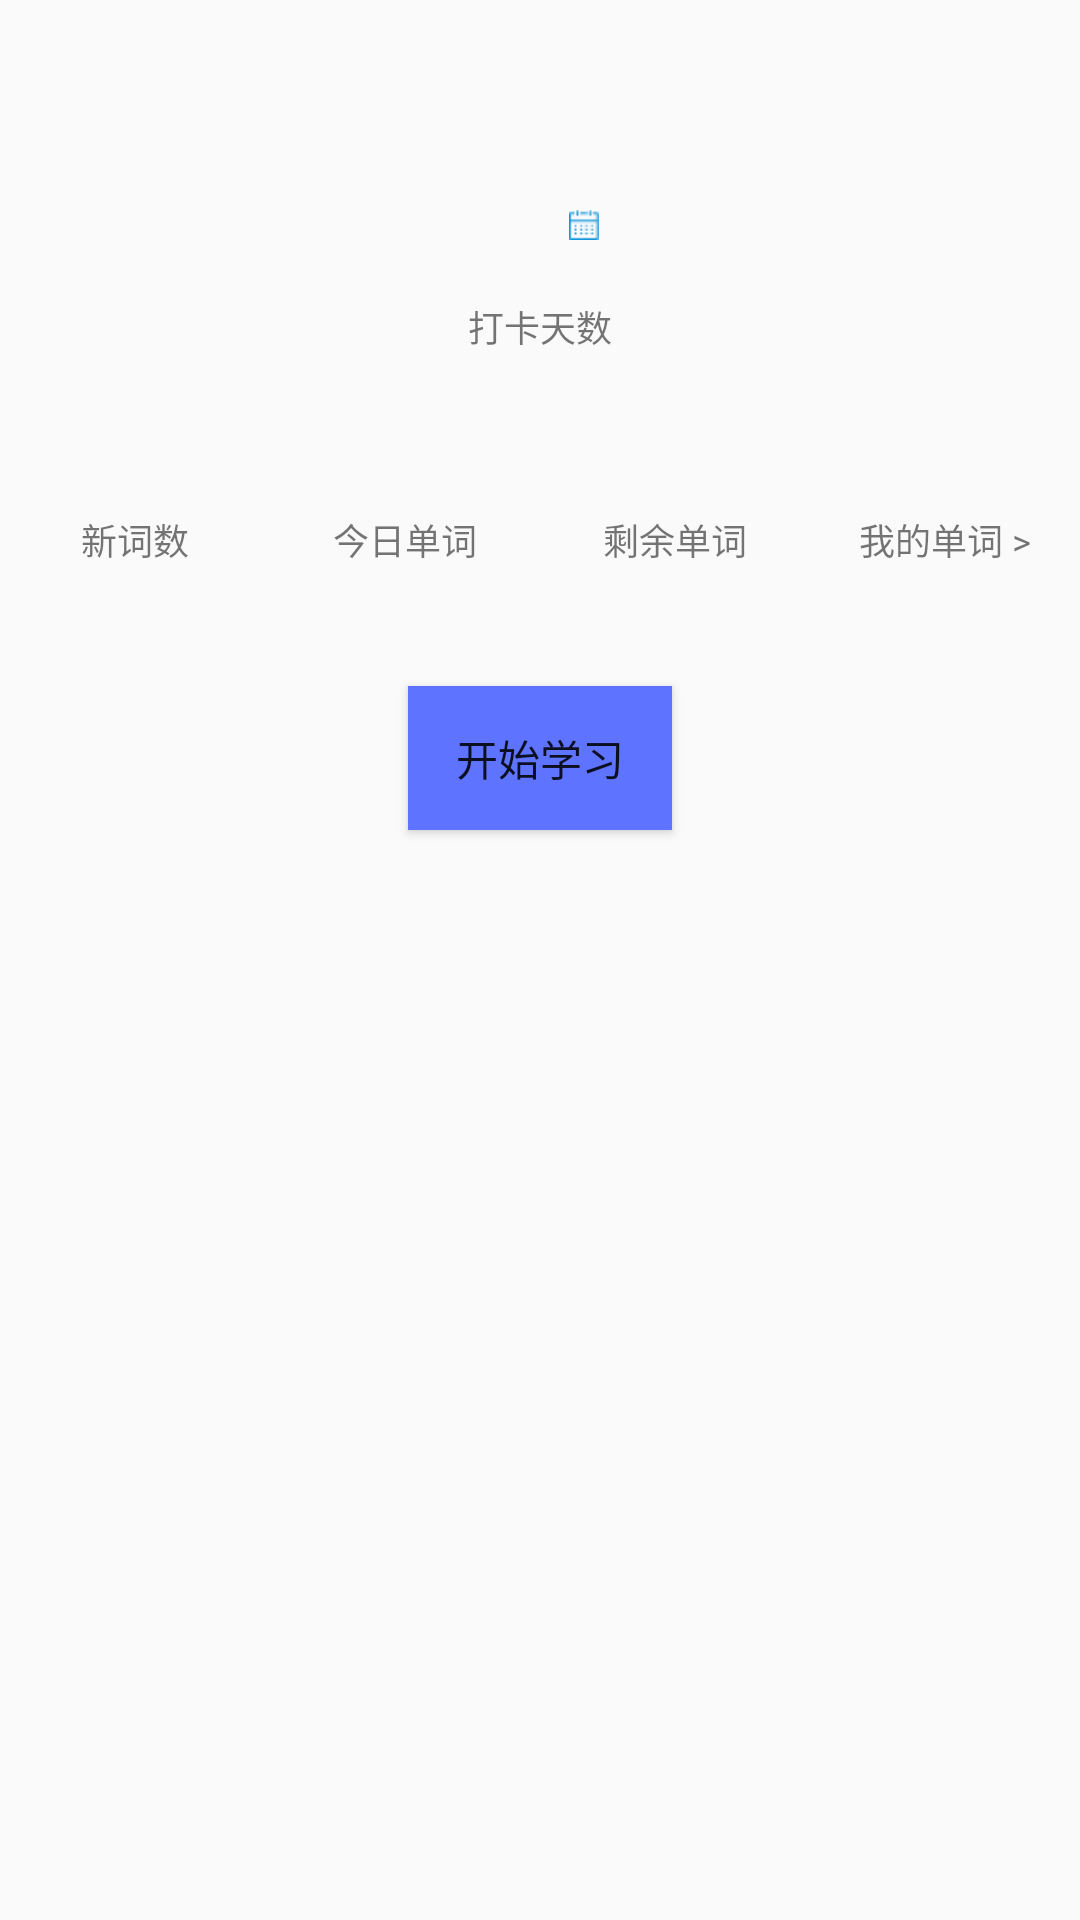

Point at icon controls on the screen. Image size 1080 × 1920, points as point (x, y).
day: point (584, 225)
